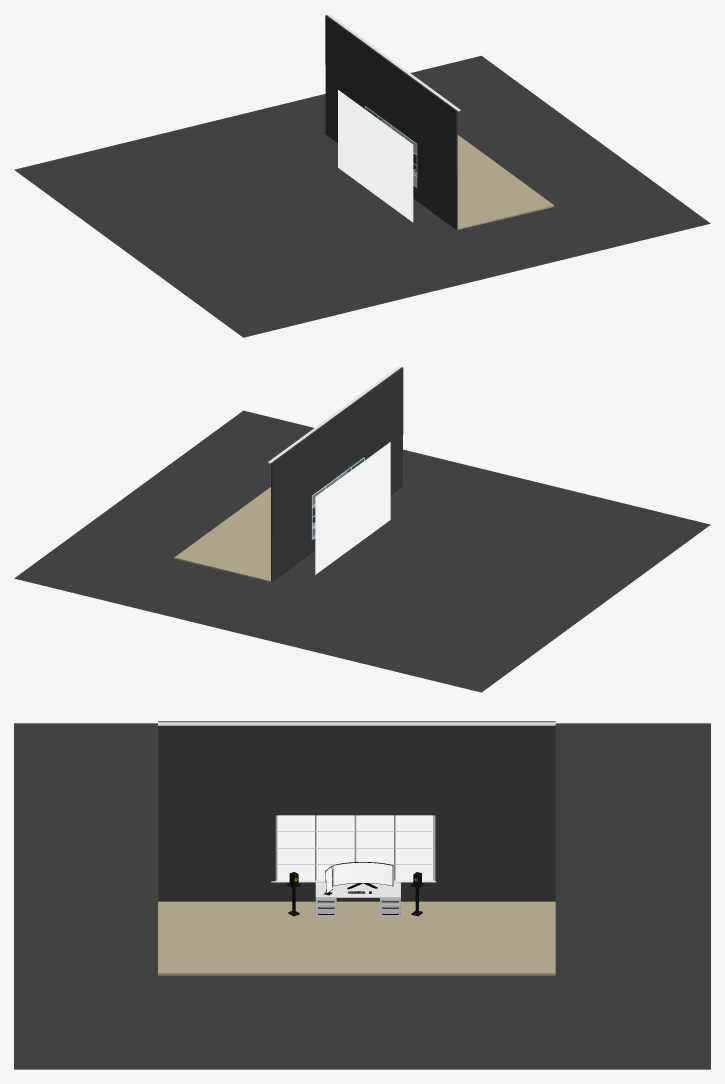
The model's file is deskScene2.glb.
3 renders of one model, top to bottom at view 1: azimuth 30°, elevation 25°; view 2: azimuth 150°, elevation 25°; view 3: azimuth 270°, elevation 25°, orthographic. The views are drawn at different scales.
Visible parts, largest first — view 1: Plane.008, Plane.001, mountain; view 2: Plane.008, Plane.001, mountain; view 3: Plane.008, Plane.001, mountain, Plane.002, Cube.002, Plane.007, Plane, Plane.010.
Boxes of the visible parts, x1,y1,x2,y2 form: Plane.008: (14, 55, 710, 337); Plane.001: (325, 15, 554, 230); mountain: (338, 90, 413, 222); Plane.008: (14, 410, 710, 692); Plane.001: (174, 367, 403, 582); mountain: (315, 442, 390, 574); Plane.008: (14, 723, 710, 1069); Plane.001: (158, 721, 555, 975); mountain: (277, 815, 433, 880); Plane.002: (158, 722, 555, 725); Cube.002: (332, 862, 393, 889); Plane.007: (275, 815, 435, 880); Plane: (315, 882, 400, 897); Plane.010: (315, 898, 400, 916).
Size of the model in its own units: 33.13 by 8.69 by 28.16.
Materials: 14 (1 with a texture image).
